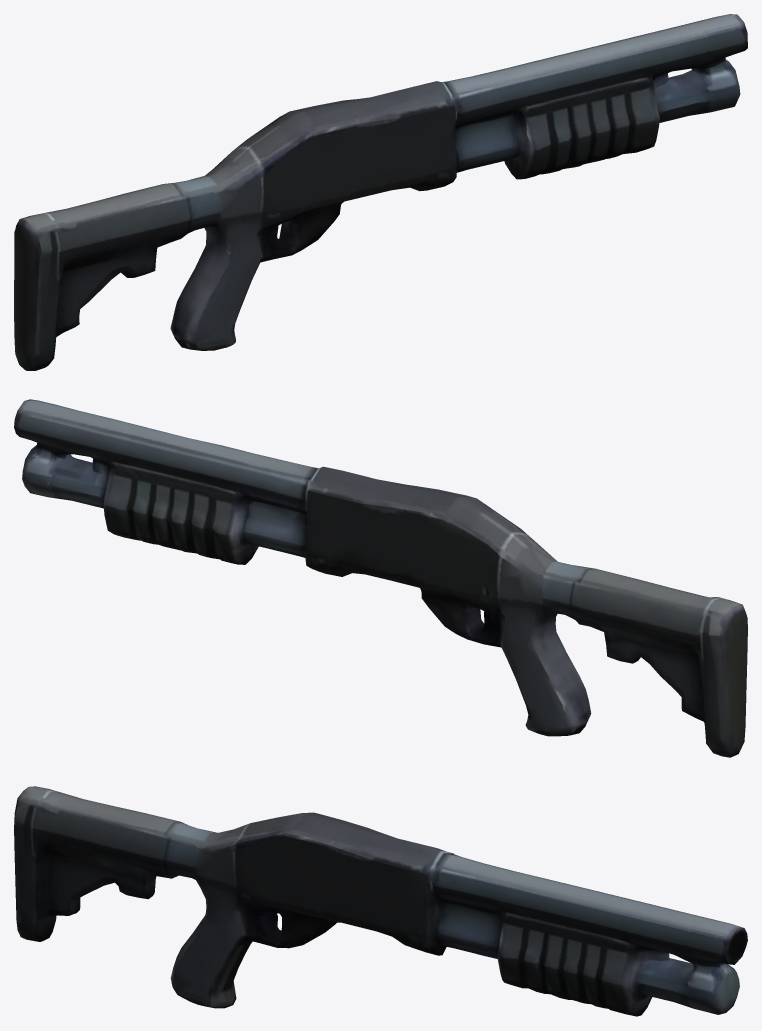
Rendered from shotgun.glb.
The picture shows the model from 3 angles, top to bottom: view 1: azimuth 30°, elevation 25°; view 2: azimuth 150°, elevation 25°; view 3: azimuth 330°, elevation 25°; orthographic projection.
Visible parts, largest first — view 1: Shotgun; view 2: Shotgun; view 3: Shotgun.
Boxes of the visible parts, x1,y1,x2,y2 form: Shotgun: [14, 14, 747, 370]; Shotgun: [14, 399, 747, 757]; Shotgun: [14, 786, 747, 1016].
Size of the model in its own units: 0.9 by 0.2545 by 0.0768.
Materials: 1 (1 with a texture image).
